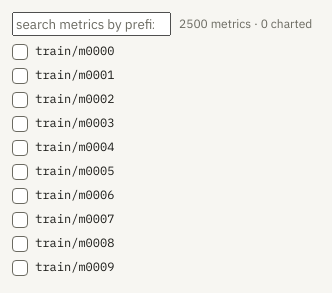
MetricKeyPicker › searches by prefix on the server
The width and height of the screenshot is (332, 293).
Expected: the text "train/m0000" is shown, [12,43,114,60]
Type "train/m2499" into the search field. click: (92, 24)
box: [12,12,171,36]
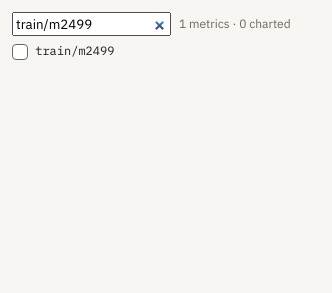
Expected: the text "train/m2499" is shown, [12,43,114,60]
Expected: the number of checkboxes is 1, [12,44,28,60]
